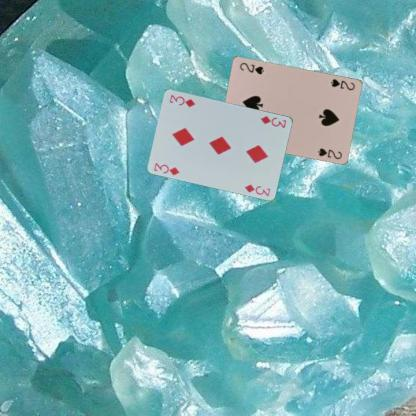2s: (328, 76, 356, 92)
3d: (258, 114, 288, 130), (151, 160, 181, 176)
